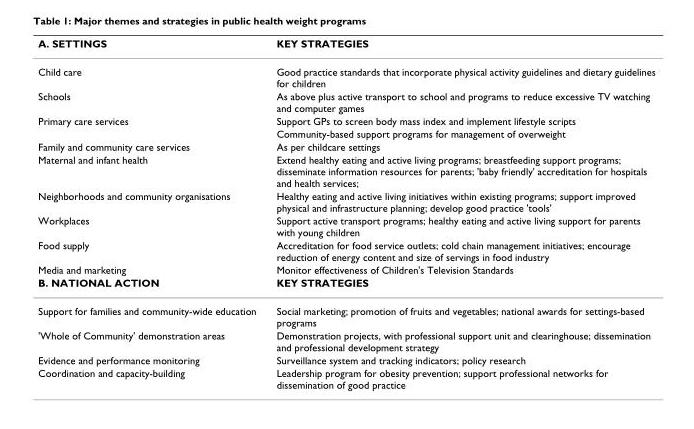table: (37, 36, 654, 390)
table column: (265, 36, 654, 390), (37, 36, 265, 390)
table column header: (37, 36, 654, 57)
table row: (37, 152, 654, 188), (37, 57, 654, 89), (37, 296, 654, 328), (37, 188, 654, 213), (37, 213, 654, 238), (37, 328, 654, 353), (37, 89, 654, 113), (37, 238, 654, 262), (37, 366, 654, 390), (37, 36, 654, 57), (37, 275, 654, 296), (37, 113, 654, 126), (37, 126, 654, 139), (37, 139, 654, 152), (37, 262, 654, 275), (37, 353, 654, 366)
table spanning cell: (37, 113, 265, 139)
